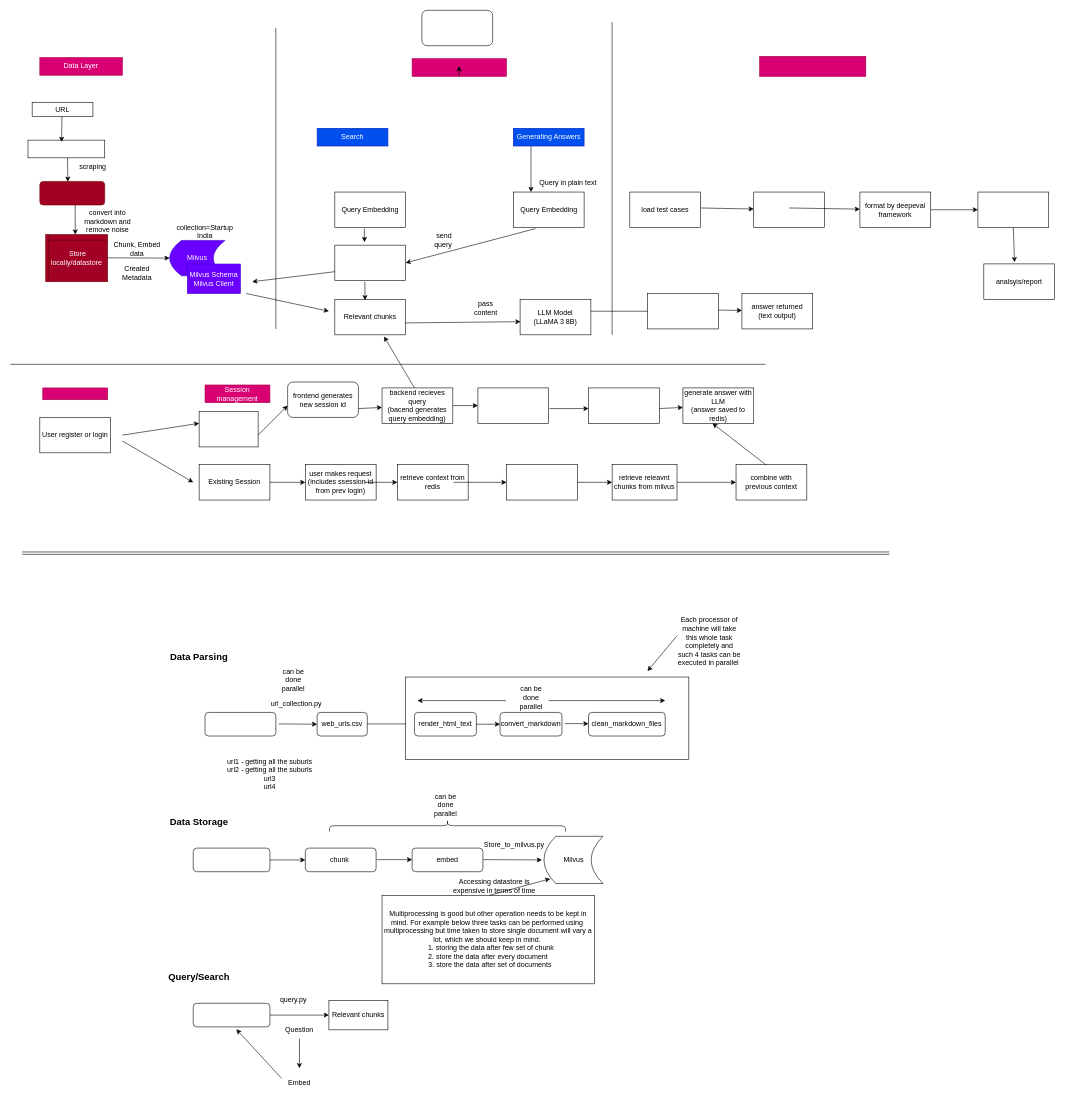
Image size: 1065x1102. Some labels were removed from this diagram. Each missing label, with the centre of its shape:
convert(llm test case): (x=789, y=209)
Data Retrieving: (x=459, y=67)
Evaluation: (x=812, y=66)
Extract sub urls: (x=66, y=149)
fund_resources.csv: (x=240, y=724)
generate embedding for new query: (x=541, y=482)
language used : python: (x=457, y=28)
milvus_configuration: (x=231, y=1015)
New Session: (x=228, y=429)
Ollama Judge (metric type) and Latency&Token metrics: (x=1013, y=209)
path_of_cleaned_files: (x=231, y=860)
retrieve relevant chunks from milvus: (x=513, y=405)
Run test Suite: (x=682, y=311)
Search API: (x=370, y=263)
store session in redis: (x=623, y=405)
User Identity: (x=75, y=393)
Web Documents: (x=72, y=193)
